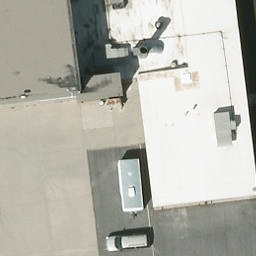camping car: (119, 158, 144, 211)
car: (104, 232, 148, 253)
